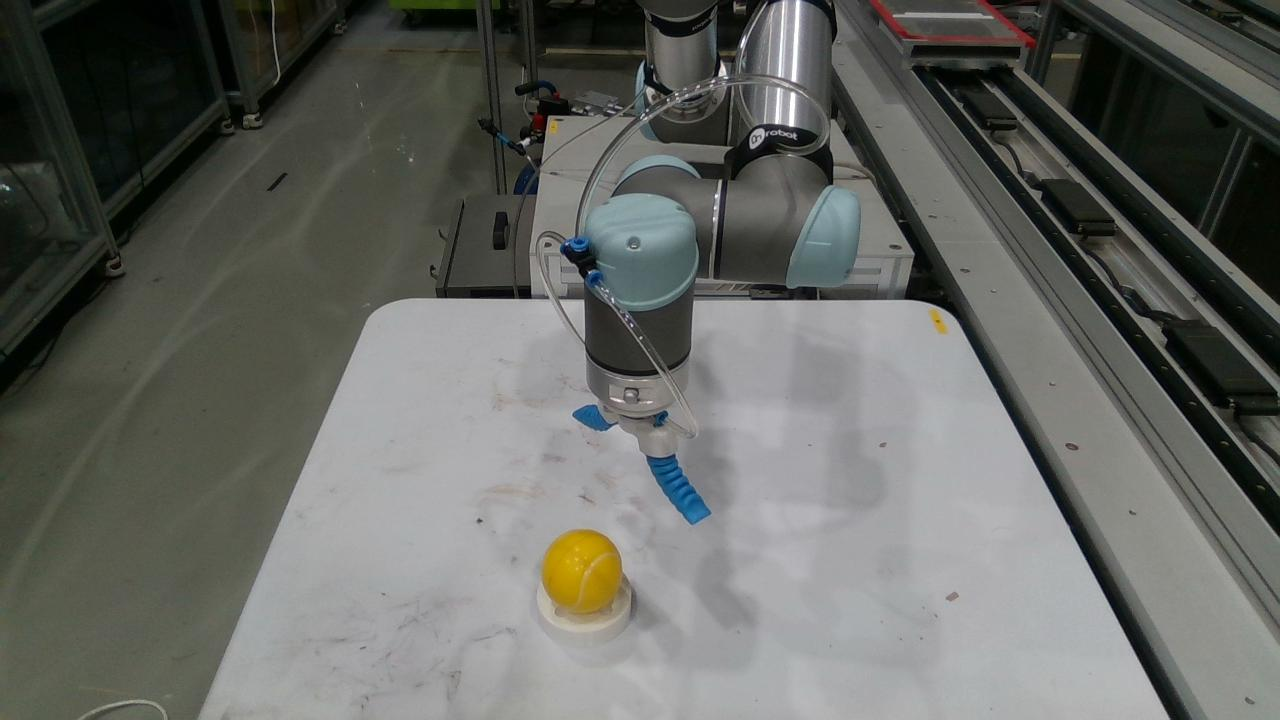UR5: (585, 0, 861, 457)
gripper_left: (571, 405, 616, 432)
gripper_right: (647, 455, 710, 524)
target: (541, 529, 622, 614), (535, 580, 633, 648)
